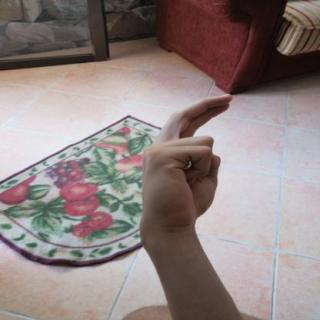ZAY: (127, 89, 240, 246)
